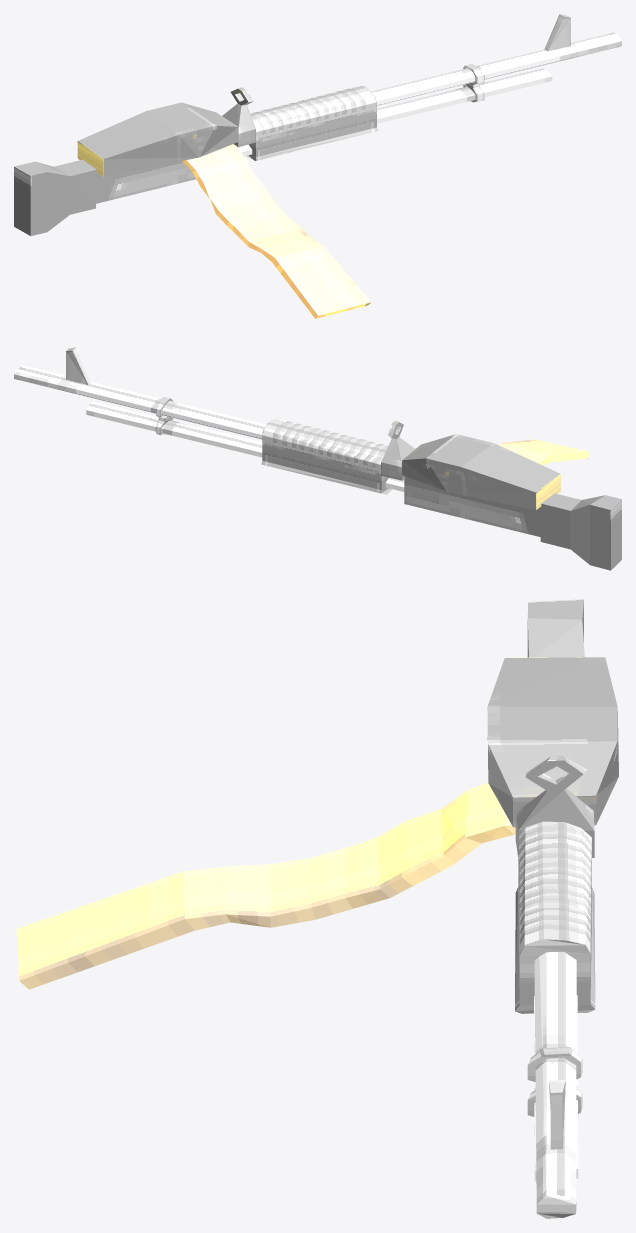
The picture shows the model from 3 angles, top to bottom: view 1: azimuth 30°, elevation 25°; view 2: azimuth 150°, elevation 25°; view 3: azimuth 270°, elevation 25°; orthographic projection. The views are drawn at different scales.
Parts seen in each view (by area): view 1: g_m60; view 2: g_m60; view 3: g_m60.
Boxes of the visible parts, box(x1,y1,x2,y2) form: g_m60: box(14, 14, 621, 318); g_m60: box(14, 347, 621, 570); g_m60: box(17, 599, 618, 1218).
Size of the model in its own units: 7.05 by 1.34 by 3.08.
